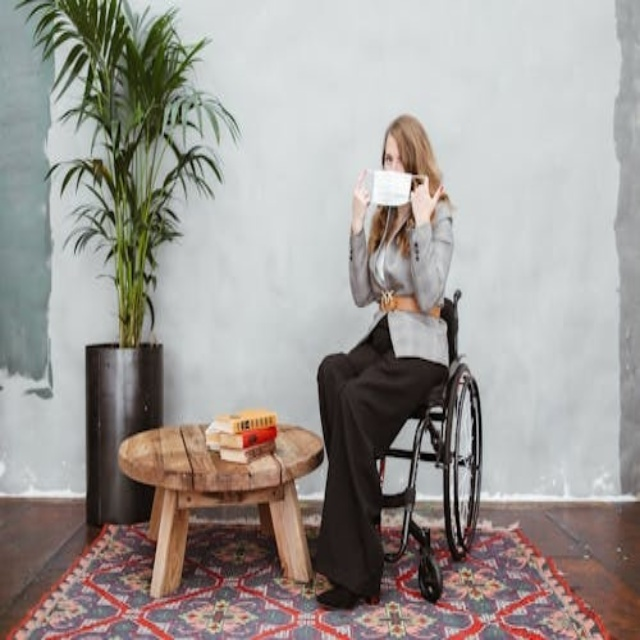Sin_gafas: (382, 155, 400, 168)
Sin_guantes: (410, 175, 448, 227), (349, 165, 372, 225)
